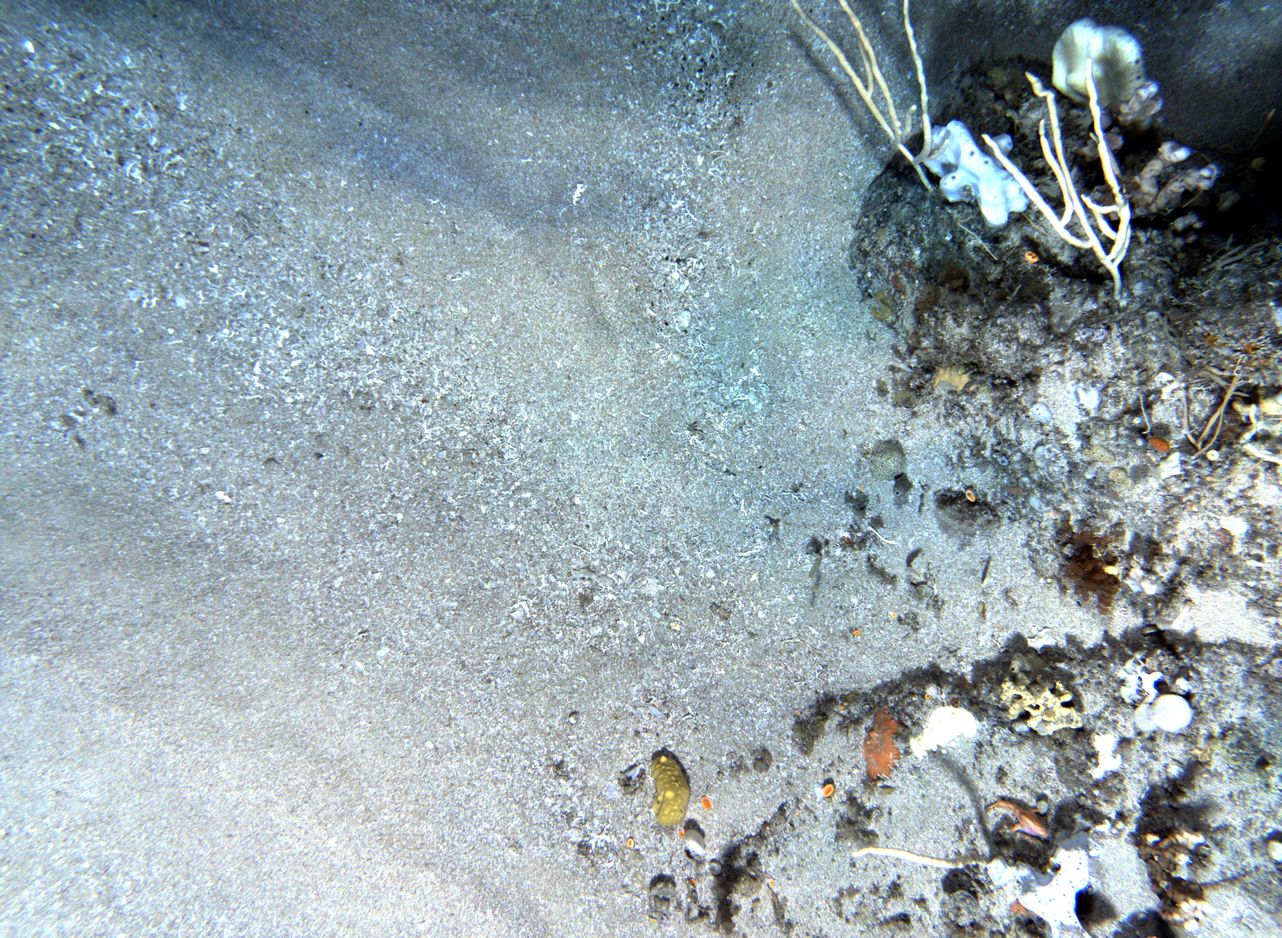Brachionichthyidae: (984, 793, 1053, 842)
